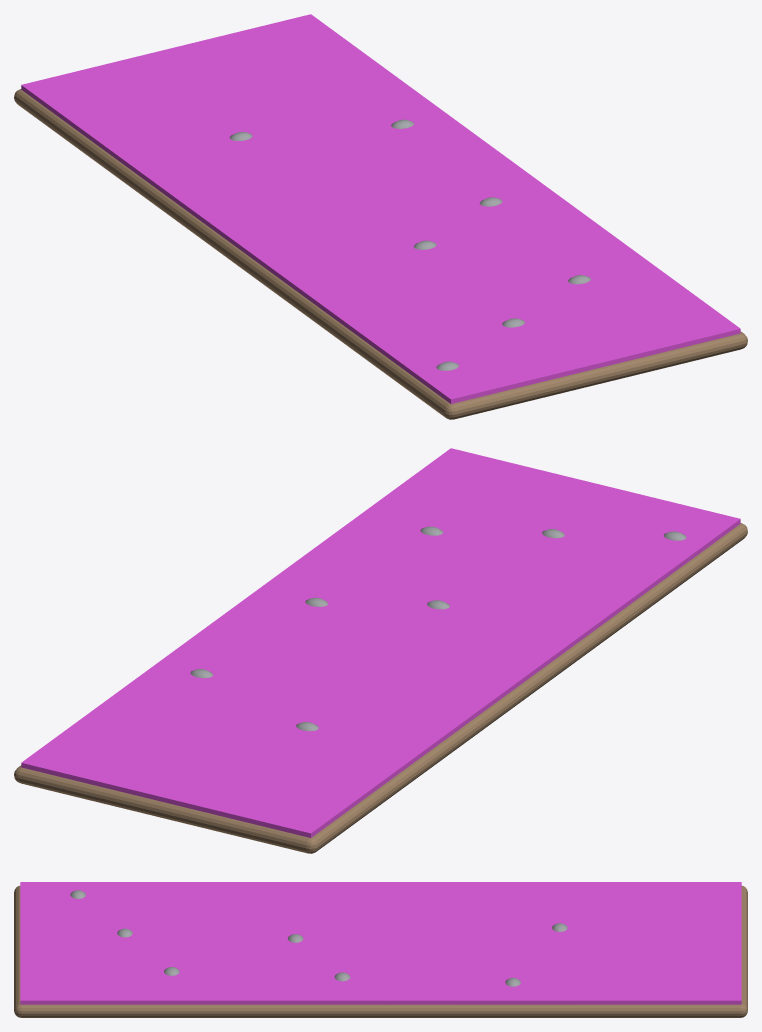
Rendered from forest_path_dirt_straight_lod0_v1.glb.
3 renders of one model, top to bottom at view 1: azimuth 30°, elevation 25°; view 2: azimuth 150°, elevation 25°; view 3: azimuth 270°, elevation 25°, orthographic. The views are drawn at different scales.
Parts seen in each view (by area): view 1: NAV_MASK_FOREST_PATH_DIRT_STRAIGHT_MAIN, LOD0_FOREST_PATH_DIRT_STRAIGHT_Surface; view 2: NAV_MASK_FOREST_PATH_DIRT_STRAIGHT_MAIN, LOD0_FOREST_PATH_DIRT_STRAIGHT_Surface; view 3: NAV_MASK_FOREST_PATH_DIRT_STRAIGHT_MAIN, LOD0_FOREST_PATH_DIRT_STRAIGHT_Surface.
Boxes of the visible parts, box(x1,y1,x2,y2) form: NAV_MASK_FOREST_PATH_DIRT_STRAIGHT_MAIN: box(21, 14, 740, 403); LOD0_FOREST_PATH_DIRT_STRAIGHT_Surface: box(14, 89, 747, 419); NAV_MASK_FOREST_PATH_DIRT_STRAIGHT_MAIN: box(21, 448, 740, 837); LOD0_FOREST_PATH_DIRT_STRAIGHT_Surface: box(14, 523, 747, 853); NAV_MASK_FOREST_PATH_DIRT_STRAIGHT_MAIN: box(20, 882, 741, 1004); LOD0_FOREST_PATH_DIRT_STRAIGHT_Surface: box(14, 885, 747, 1017).
Size of what is drawn, in the model's own units: 3.2 by 0.24 by 8.
